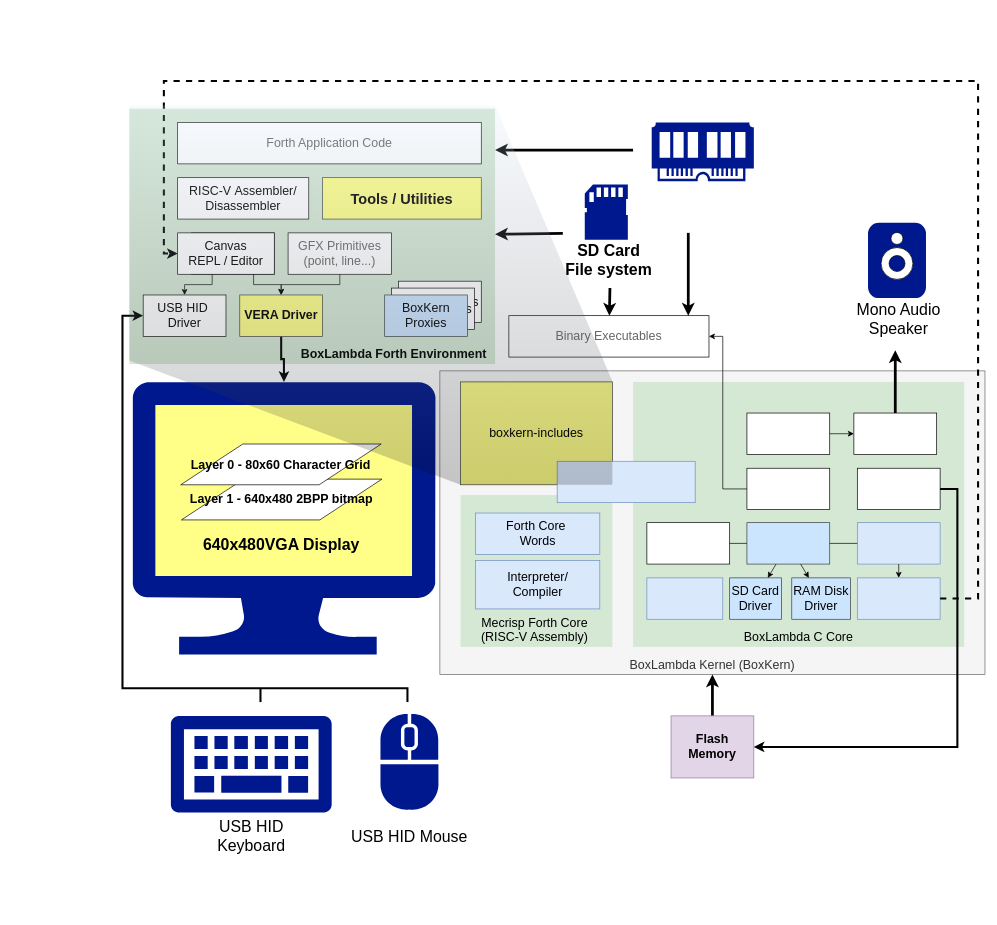
The diagram is 997 pixels wide and 925 high, and some of its shapes have lost their labels. Here are the shapes that lost their labels. From the top down, the centre of each, then its label:
At point (702, 151): "RAM File system".
At point (788, 433): "ST-Sound Library".
At point (895, 433): "YM2149 PSG Driver".
At point (625, 482): "Forth FFI".
At point (788, 489): "ELF Loader".
At point (898, 489): "Flash Driver".
At point (688, 543): "RTC Timekeeping".
At point (788, 543): "FatFS".
At point (898, 543): "PicoLibc".
At point (684, 598): "UART Driver".
At point (898, 598): "Console Driver".
